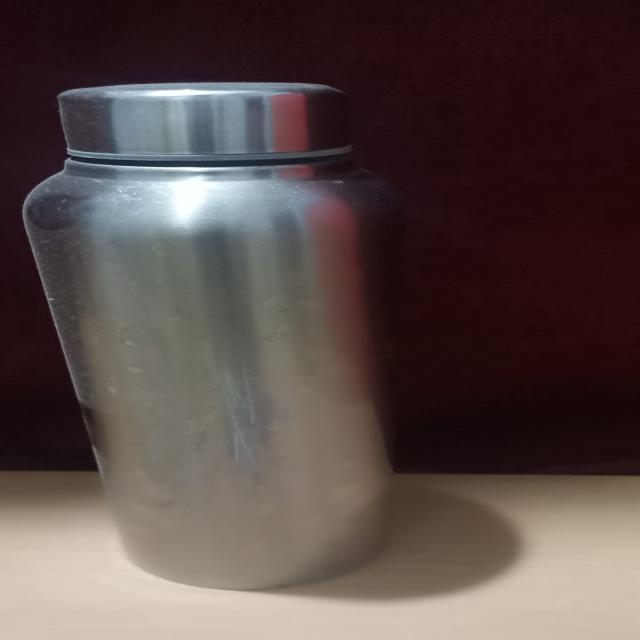bottle: (19, 66, 434, 597)
